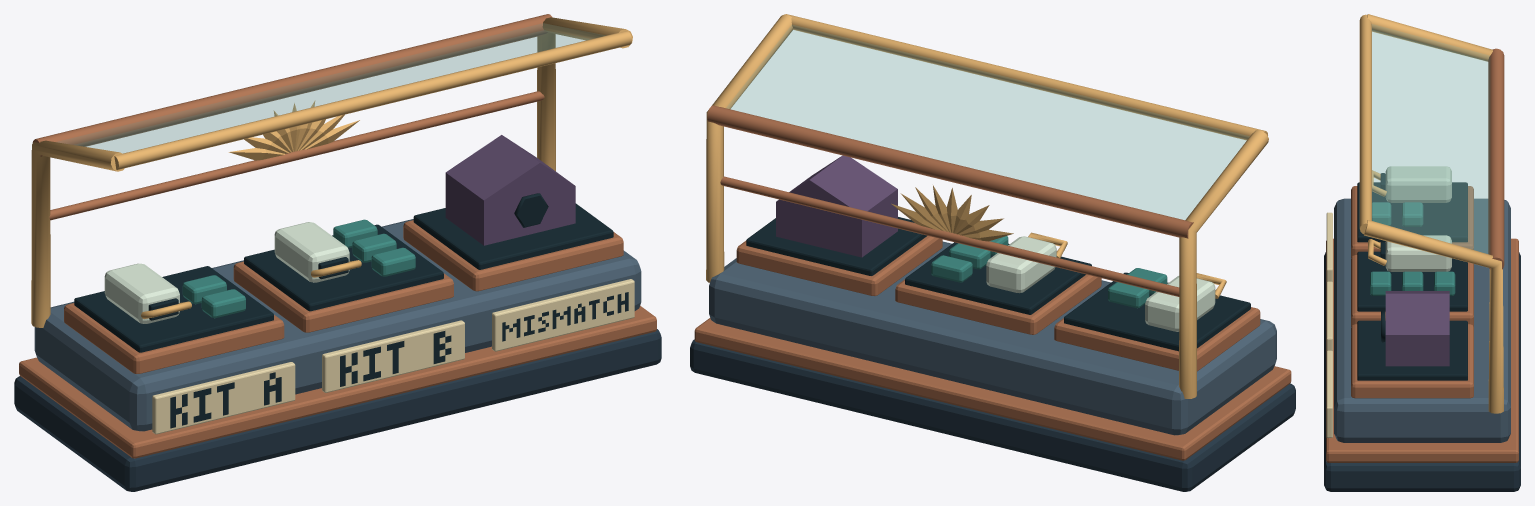
3 renders of one model, left to right at view 1: azimuth 30°, elevation 25°; view 2: azimuth 150°, elevation 25°; view 3: azimuth 270°, elevation 25°, orthographic. The views are drawn at different scales.
Visible parts, largest first — view 1: PR081 enamel and hardware; view 2: PR081 enamel and hardware; view 3: PR081 enamel and hardware.
Boxes of the visible parts, box(x1,y1,x2,y2) form: PR081 enamel and hardware: box(14, 14, 661, 491); PR081 enamel and hardware: box(690, 14, 1295, 491); PR081 enamel and hardware: box(1324, 14, 1520, 491).
Bounding box in the file's own units: 2 × 1.14 × 0.7619.
